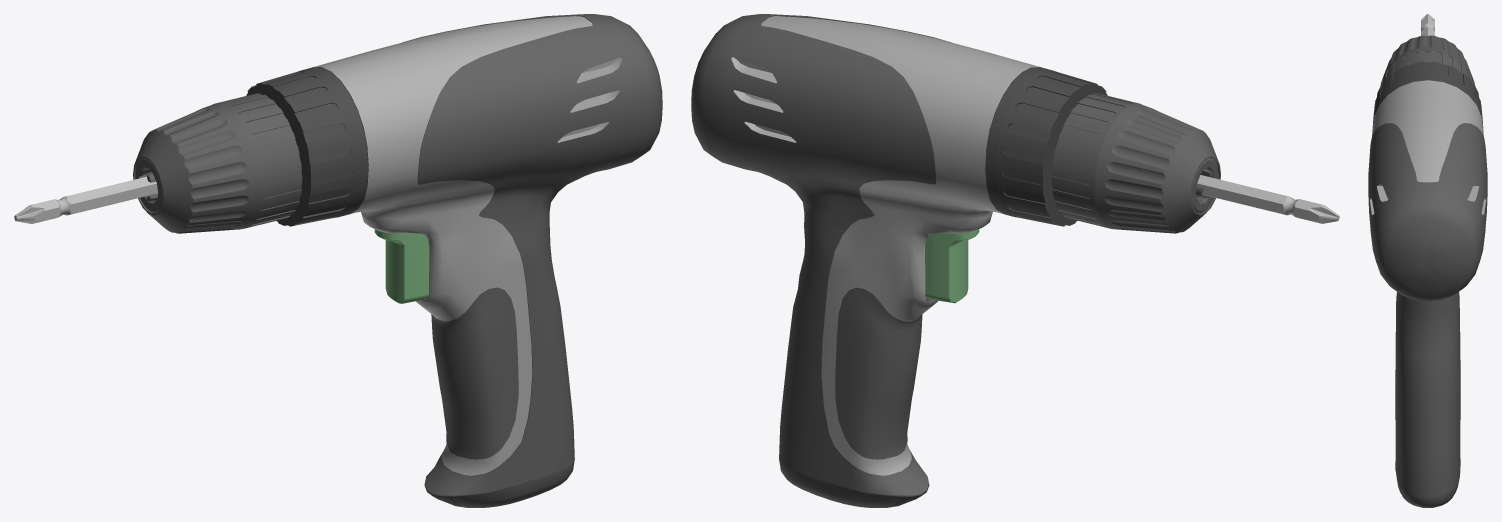
File: ScrewDriver.fbx
3 renders of one model, left to right at view 1: azimuth 30°, elevation 25°; view 2: azimuth 150°, elevation 25°; view 3: azimuth 270°, elevation 25°, orthographic. The views are drawn at different scales.
Parts seen in each view (by area): view 1: Grip, Chuck, Switch, Bit; view 2: Grip, Chuck, Switch, Bit; view 3: Grip, Chuck, Bit.
Boxes of the visible parts, x1,y1,x2,y2 form: Grip: (246,14,662,507); Chuck: (133,93,302,233); Switch: (374,229,429,303); Bit: (14,176,157,223); Grip: (691,14,1107,507); Chuck: (1051,93,1220,233); Switch: (925,229,979,303); Bit: (1197,175,1339,223); Grip: (1368,61,1487,507); Chuck: (1380,35,1474,86); Bit: (1421,14,1434,35).
Size of the model in its own units: 23.79 by 16.94 by 5.19.
